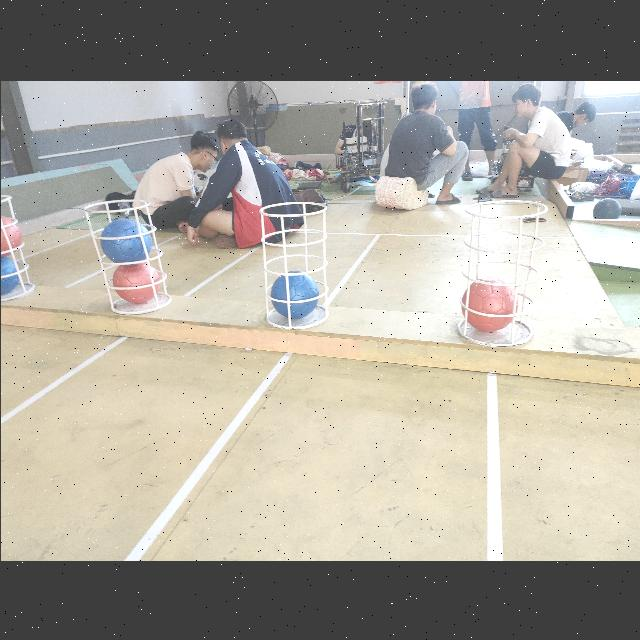B: (272, 271, 318, 319), (100, 218, 150, 262), (1, 254, 18, 296)
R: (460, 278, 518, 330), (112, 262, 158, 304), (0, 214, 22, 256)
